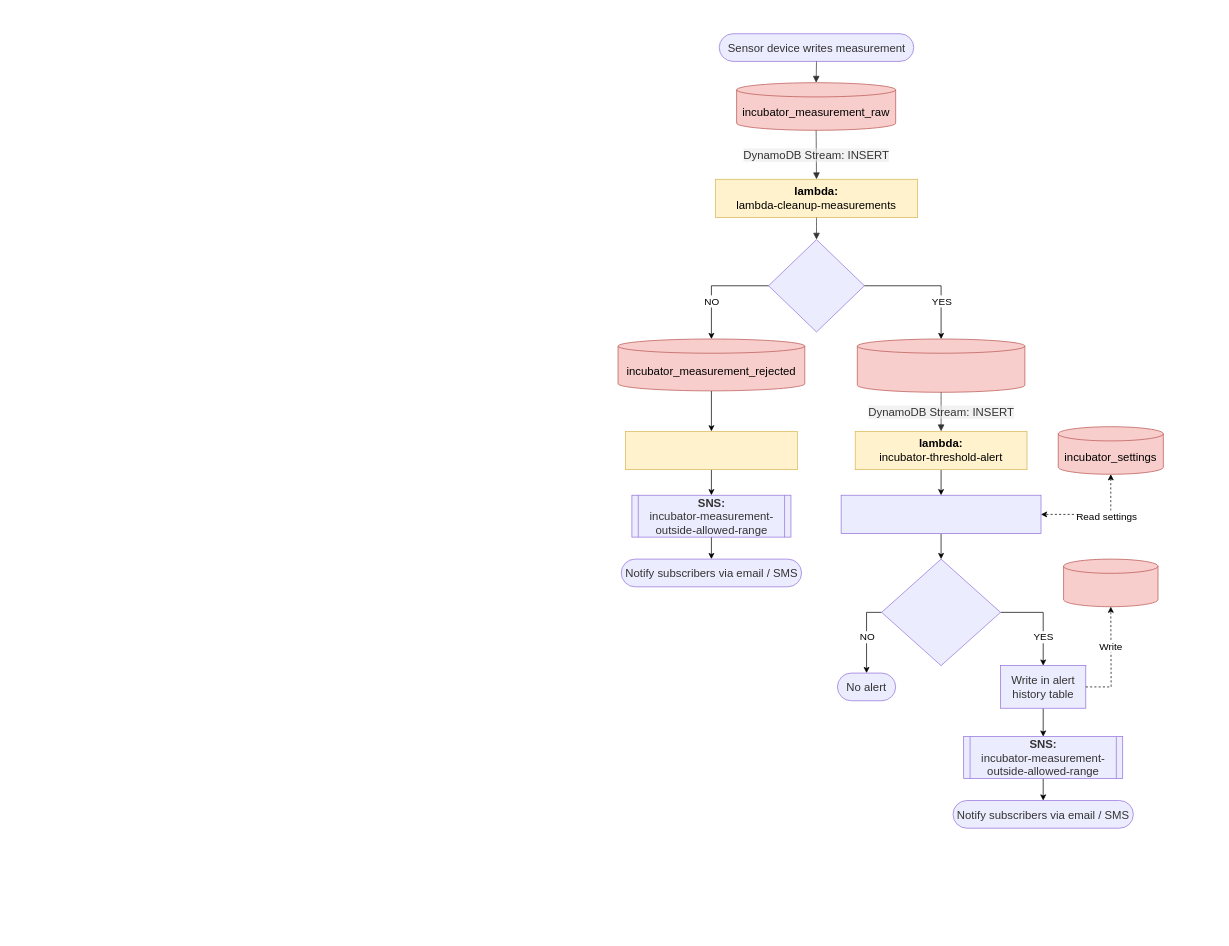
The diagram is 1229 pixels wide and 946 high, and some of its shapes have lost their labels. The box of each missing label's shape, as (x1, y1, x2, y2) in pixels:
All fields valid?: (768, 239, 864, 332)
Any field out of range?: (881, 558, 1001, 666)
Compare each measurement field against configured min/max: (840, 495, 1041, 534)
incubator_alerts: (1063, 558, 1158, 607)
incubator_measurement_clean: (857, 338, 1025, 392)
lambda: incubator-measurements-rejected-alert: (625, 431, 797, 470)
